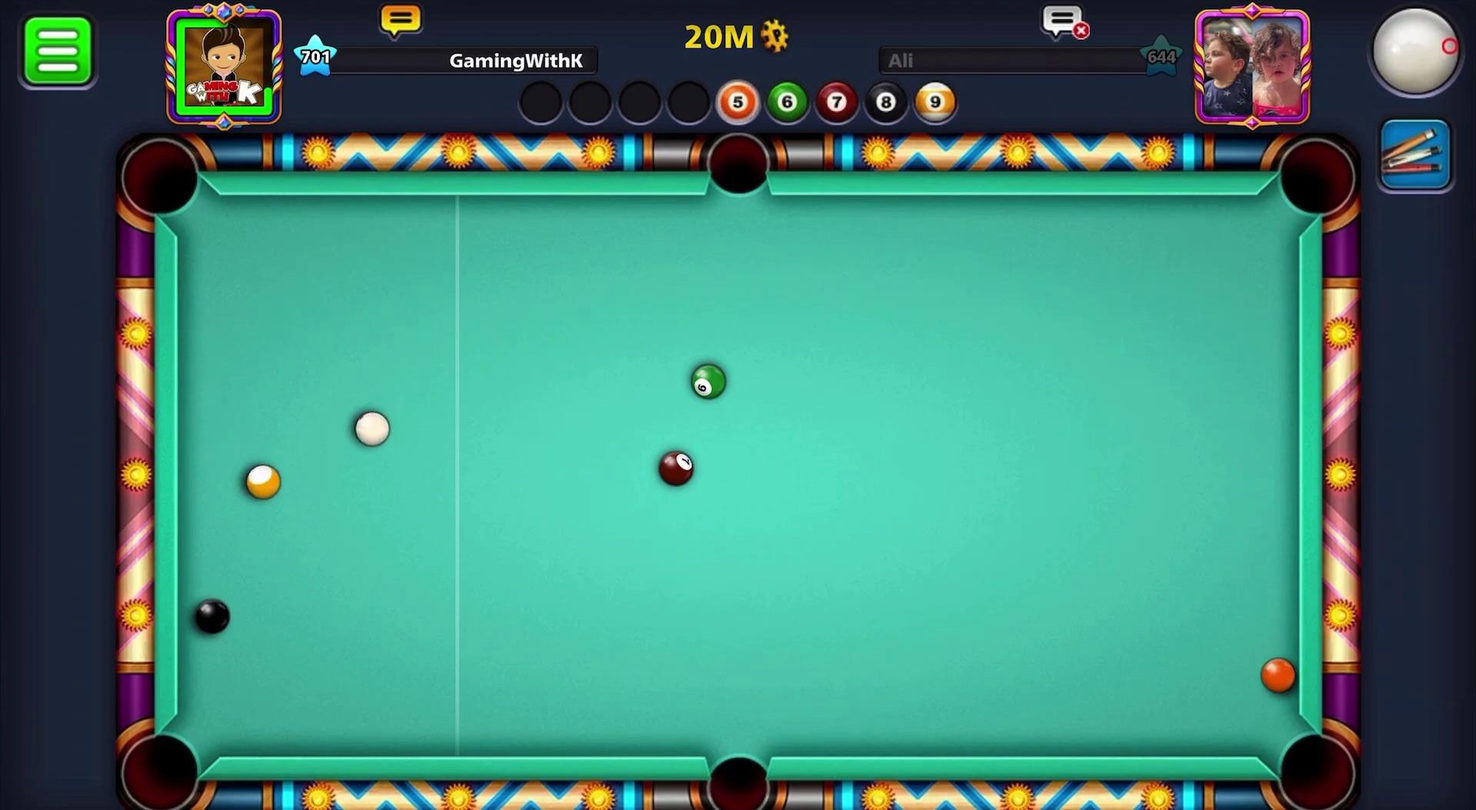Ball: (650, 445, 703, 493), (187, 593, 235, 636), (686, 357, 730, 403), (240, 459, 282, 503), (1257, 655, 1301, 695)
Hole: (1268, 132, 1366, 231), (1264, 713, 1364, 809), (111, 130, 209, 227), (111, 715, 211, 809), (686, 734, 785, 809), (701, 127, 776, 202)
Play_Area: (182, 194, 1297, 759)
Spin: (1345, 0, 1475, 114)
White: (345, 406, 393, 447)
